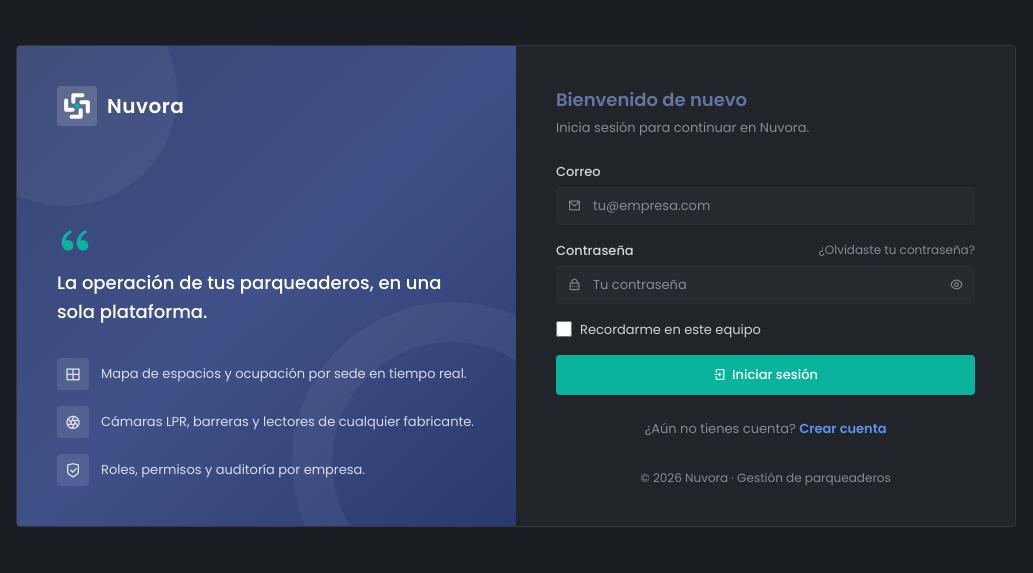
Test: LoginView › shows the API error and keeps the operator on the form
In the field with id "email": (766, 206) [556,187,975,224], type "ana@nuvora.test"
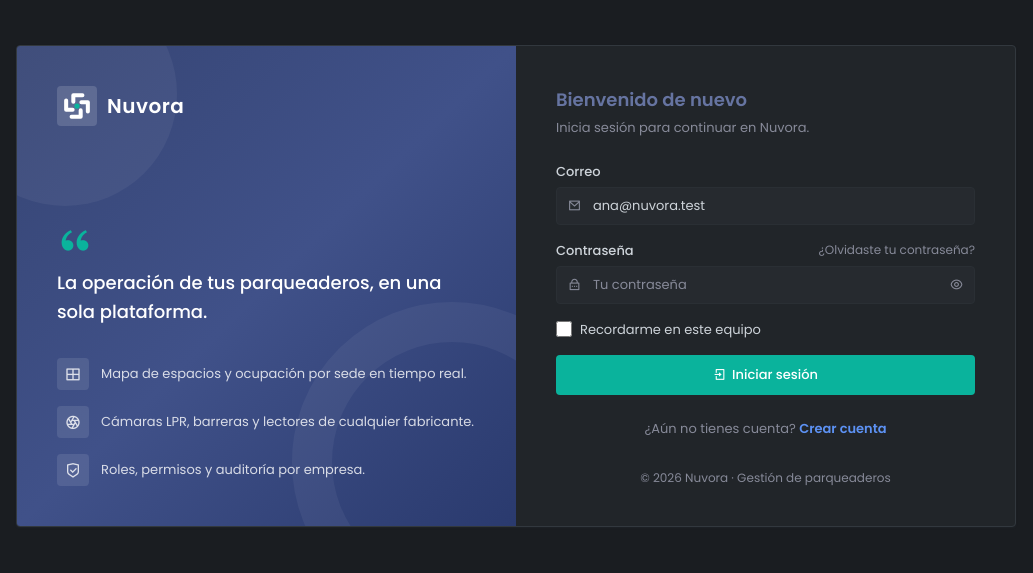
In the password field labelled "Contraseña": (766, 285) [556,266,975,304], type "Password12345"
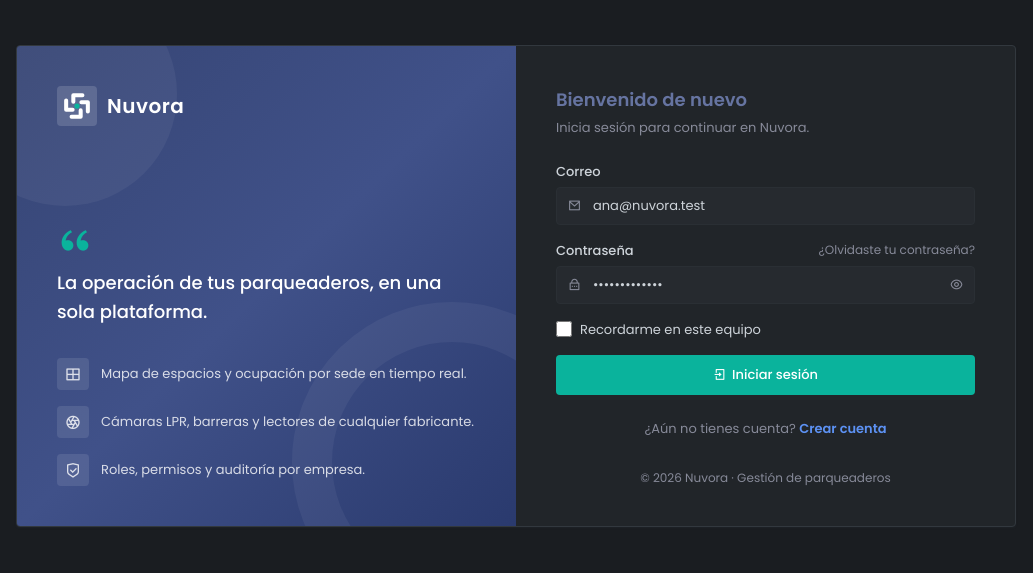
Submit the form, box [556,162,975,394]
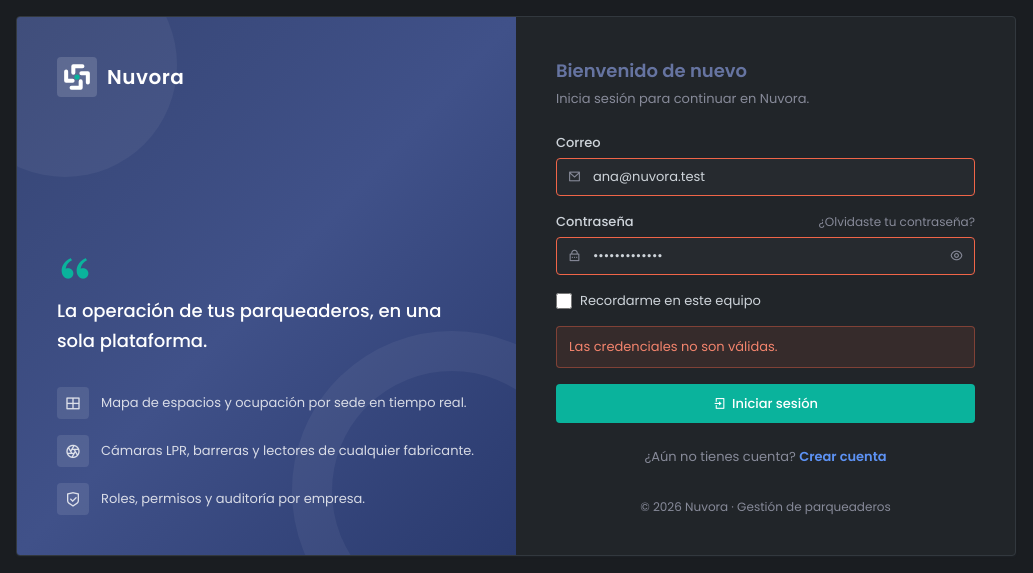
Now the message "Las credenciales no son válidas." is shown, box [556,326,975,368]
